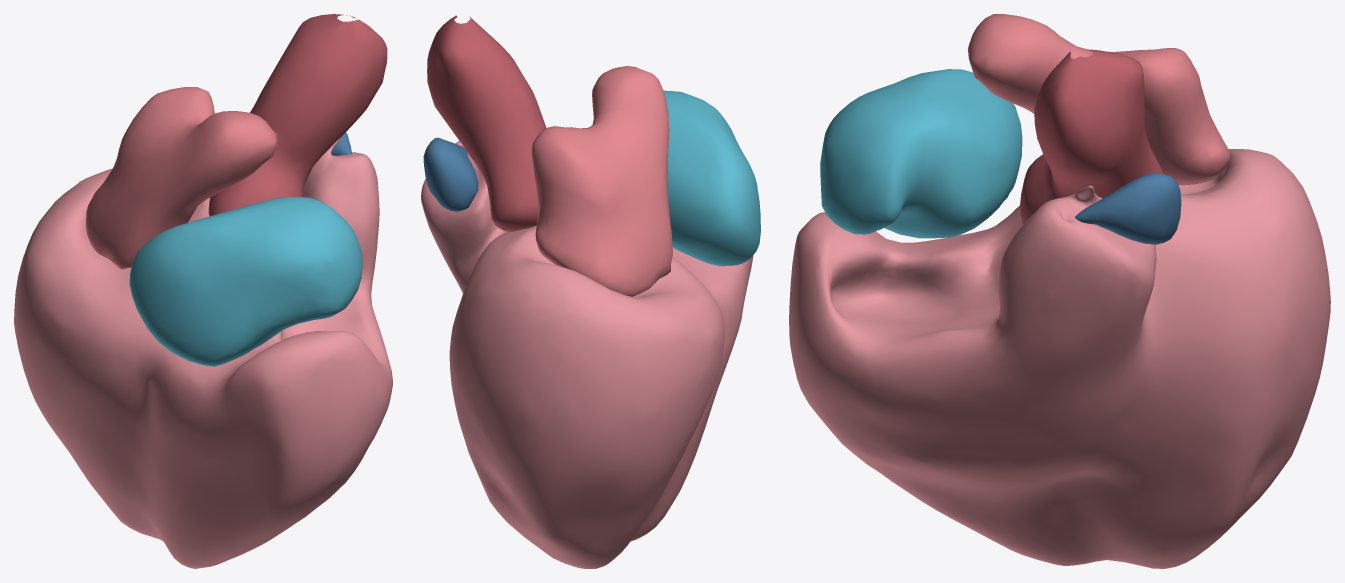
Rendered from frame_20.glb.
3 renders of one model, left to right at view 1: azimuth 30°, elevation 25°; view 2: azimuth 150°, elevation 25°; view 3: azimuth 270°, elevation 25°, orthographic. The views are drawn at different scales.
Parts seen in each view (by area): view 1: Renderer Node; view 2: Renderer Node; view 3: Renderer Node.
Part boxes in pixels (x1,y1,x2,y2): Renderer Node: (14, 14, 392, 568); Renderer Node: (421, 15, 760, 568); Renderer Node: (789, 14, 1330, 568).
Size of the model in its own units: 107 by 163 by 132.
